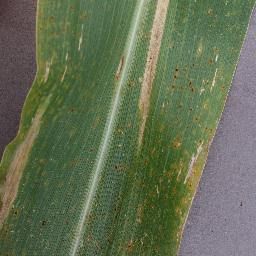Corn_Blight: (133, 0, 176, 151), (0, 99, 40, 249), (33, 16, 86, 90), (177, 39, 225, 101), (130, 158, 164, 230), (178, 129, 211, 203), (193, 0, 242, 27), (119, 232, 174, 255), (110, 49, 129, 90), (107, 119, 130, 142), (109, 157, 125, 178), (41, 215, 53, 230)
